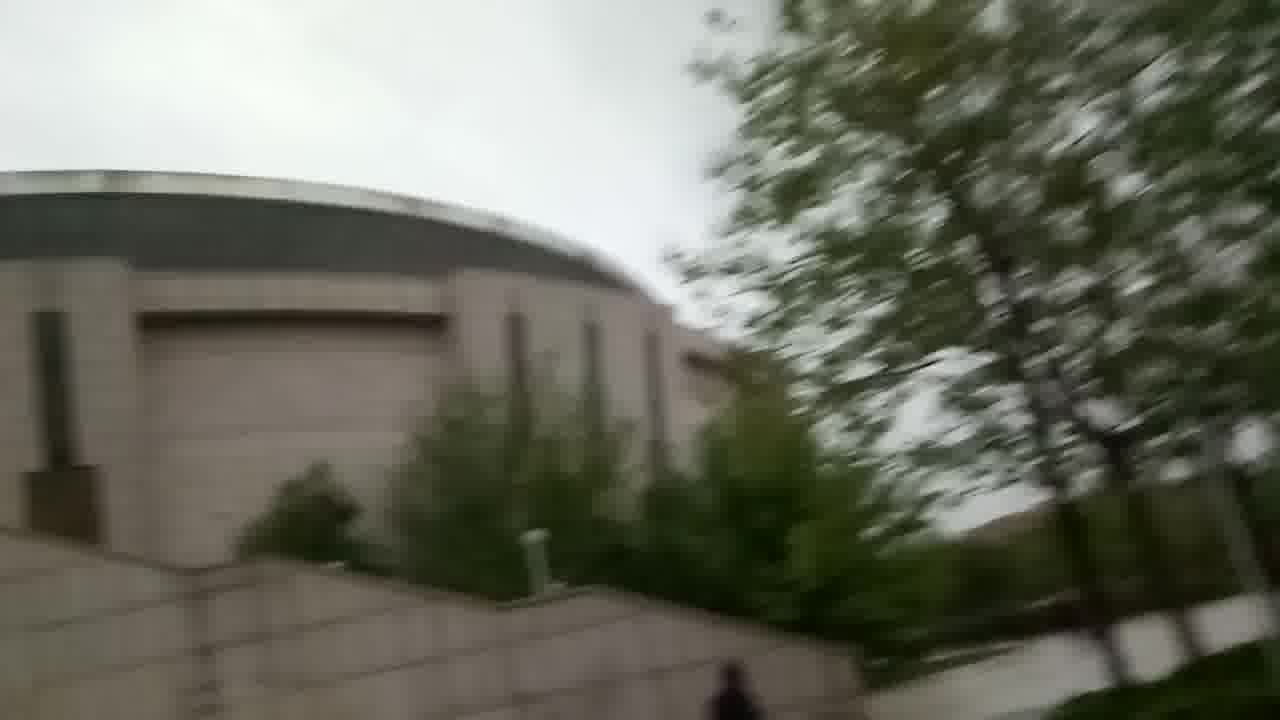zhongtiww: (1, 154, 837, 720)
